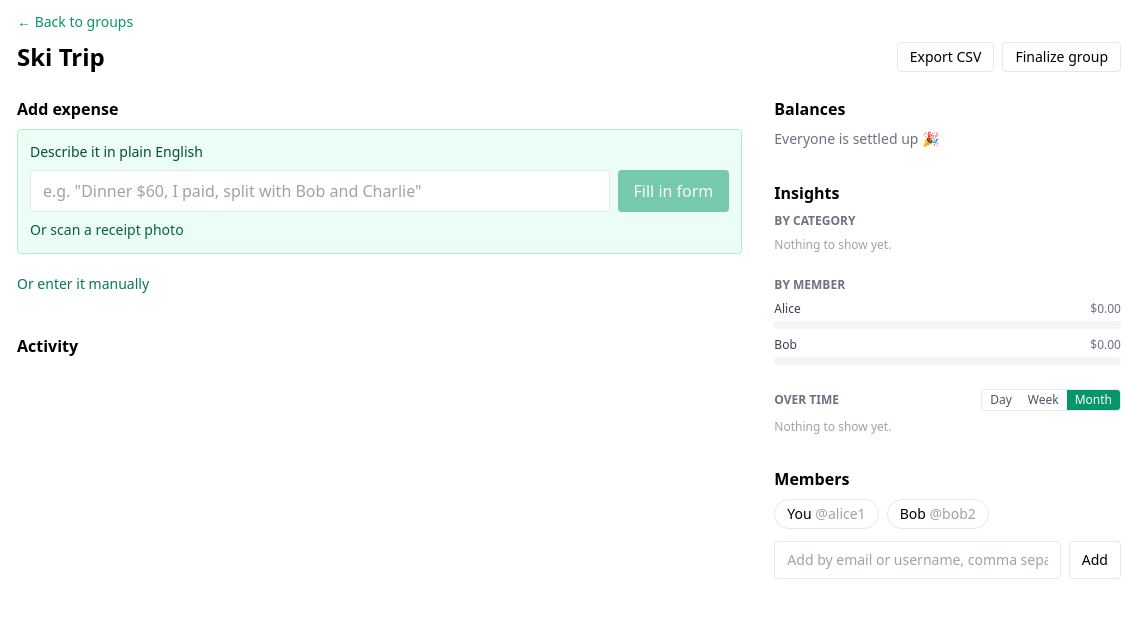
Test: GroupPage - adding an expense › the toggle reports its state and can close the fields again without losing what was typed
Expected: the heading "Ski Trip" is shown, [17,41,105,73]
Click the button "Or enter it manually" at (83, 284), box [17,266,149,302]
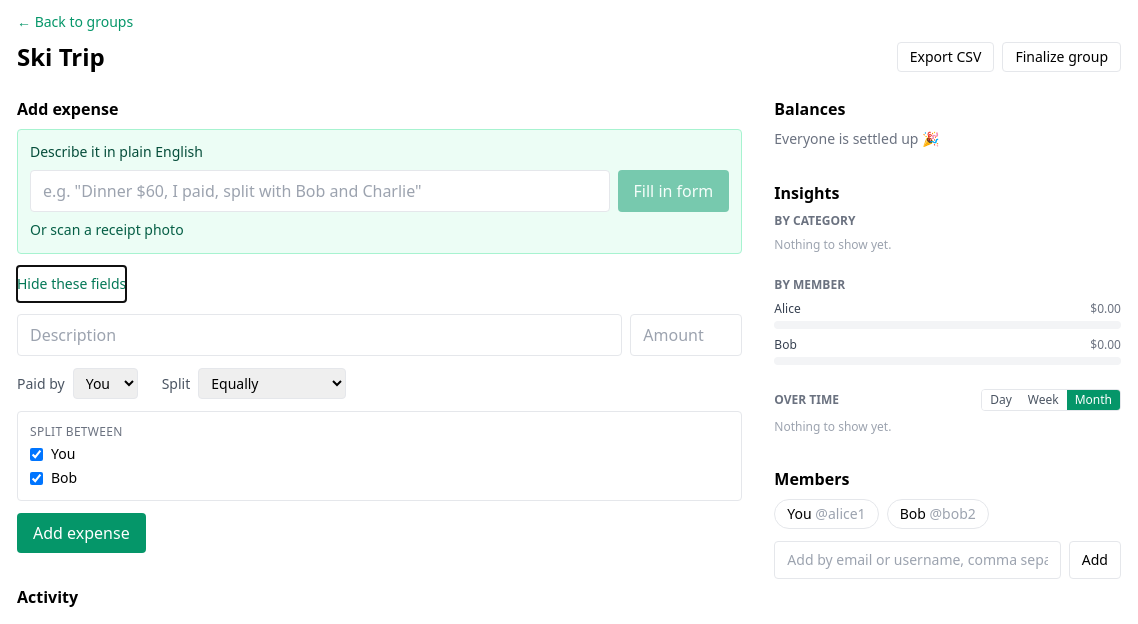
Expected: the button "Hide these fields" is expanded, [17,266,126,302]
Type "Half typed" into the field with placeholder "Description" at (320, 335), box [17,314,622,356]
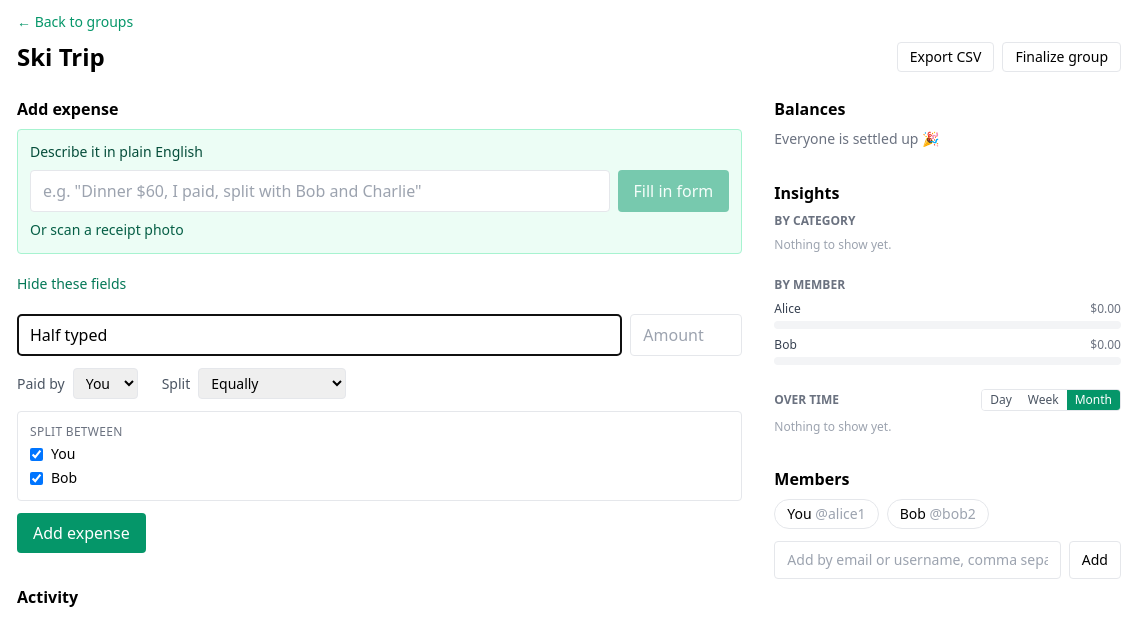
Click the button "Hide these fields" at (72, 284), box [17,266,126,302]
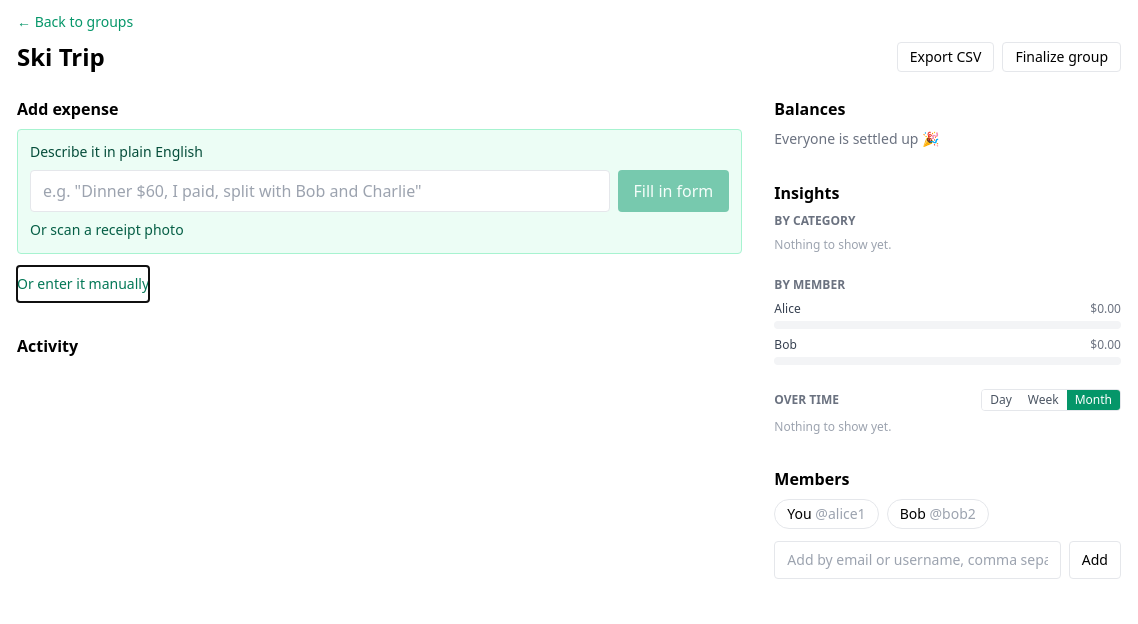
Expected: the field with placeholder "Description" is gone
Collapsing is only presentation - the draft is still there on reopening.
Click the button "Or enter it manually" at (83, 284), box [17,266,149,302]
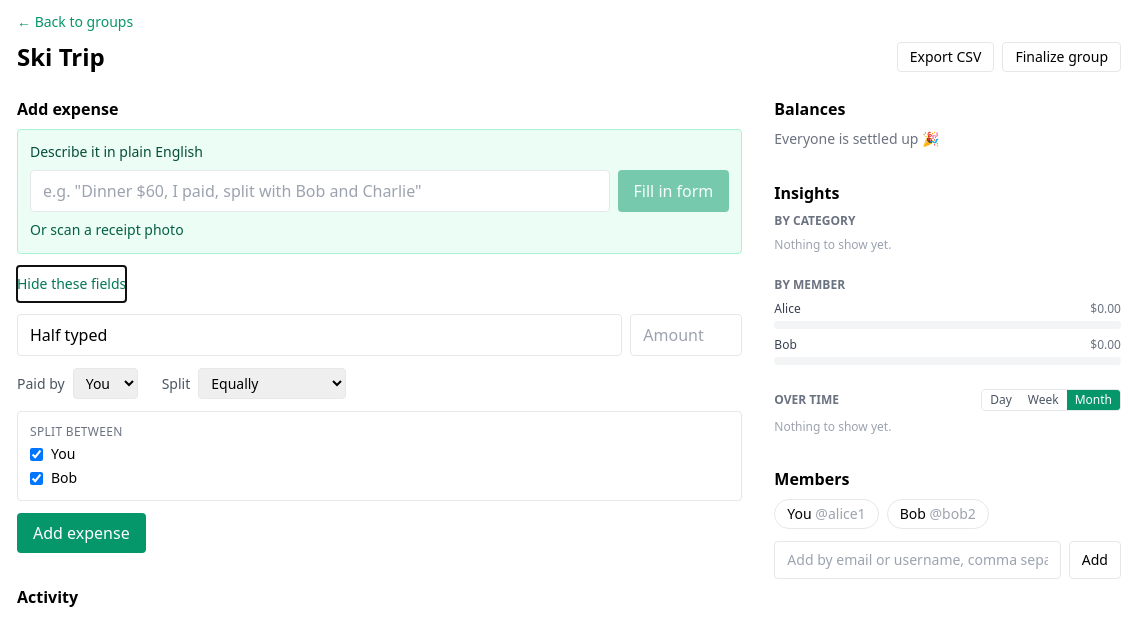
Expected: the field with placeholder "Description" holds "Half typed", [17,314,622,356]
